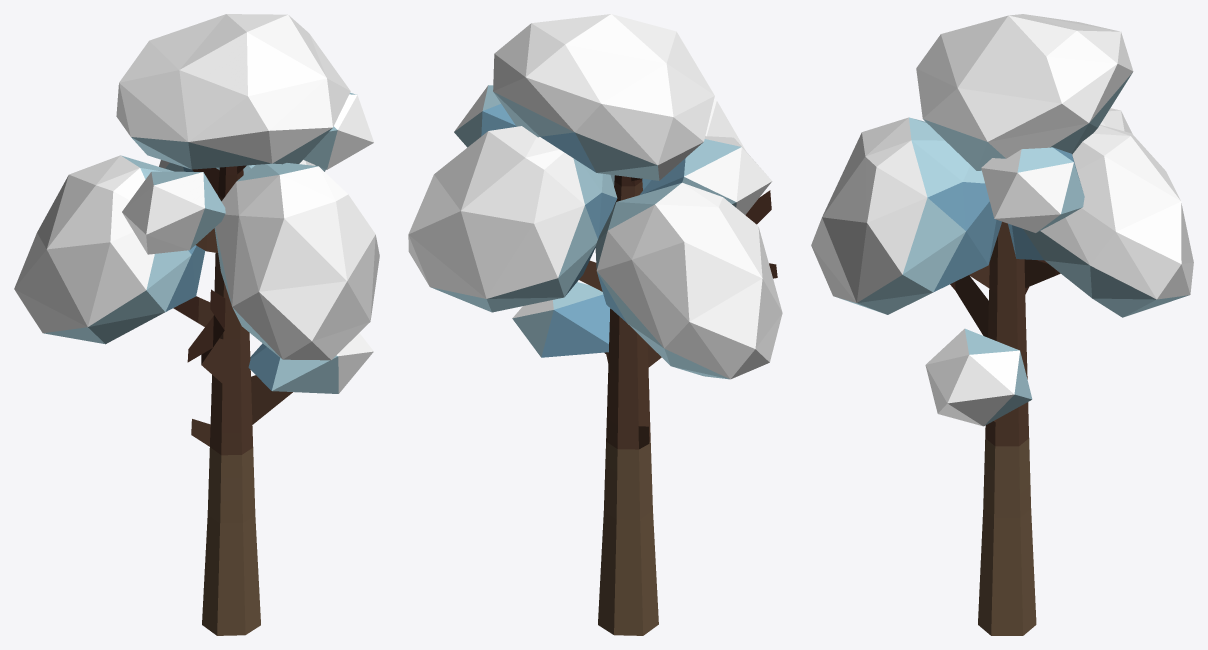
File: treeOak2.glb
3 renders of one model, left to right at view 1: azimuth 30°, elevation 25°; view 2: azimuth 150°, elevation 25°; view 3: azimuth 270°, elevation 25°, orthographic. The views are drawn at different scales.
Visible parts, largest first — view 1: bushLarge (×2), bushTop, treeBase, bushMedium (×3); view 2: bushLarge (×3), bushTop, treeBase, bushMedium (×3); view 3: bushLarge (×2), bushTop, treeBase, bushMedium (×2).
Boxes of the visible parts, x1,y1,x2,y2 form: bushLarge (×2): [14, 155, 379, 360]; bushTop: [116, 14, 350, 169]; treeBase: [173, 165, 292, 635]; bushMedium (×3): [122, 92, 373, 393]; bushLarge (×3): [408, 100, 782, 379]; bushTop: [493, 14, 714, 180]; treeBase: [579, 175, 777, 635]; bushMedium (×3): [454, 85, 772, 357]; bushLarge (×2): [811, 117, 1193, 317]; bushTop: [916, 14, 1133, 170]; treeBase: [950, 221, 1060, 635]; bushMedium (×2): [925, 147, 1084, 426].
Bounding box in the file's own units: 6.02 × 10.78 × 6.06.
Materials: 2 (2 with a texture image).
